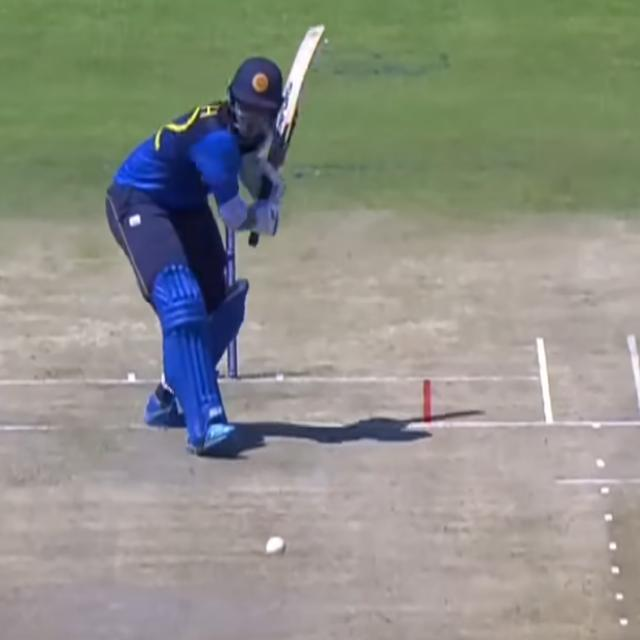bat: (275, 26, 336, 168)
